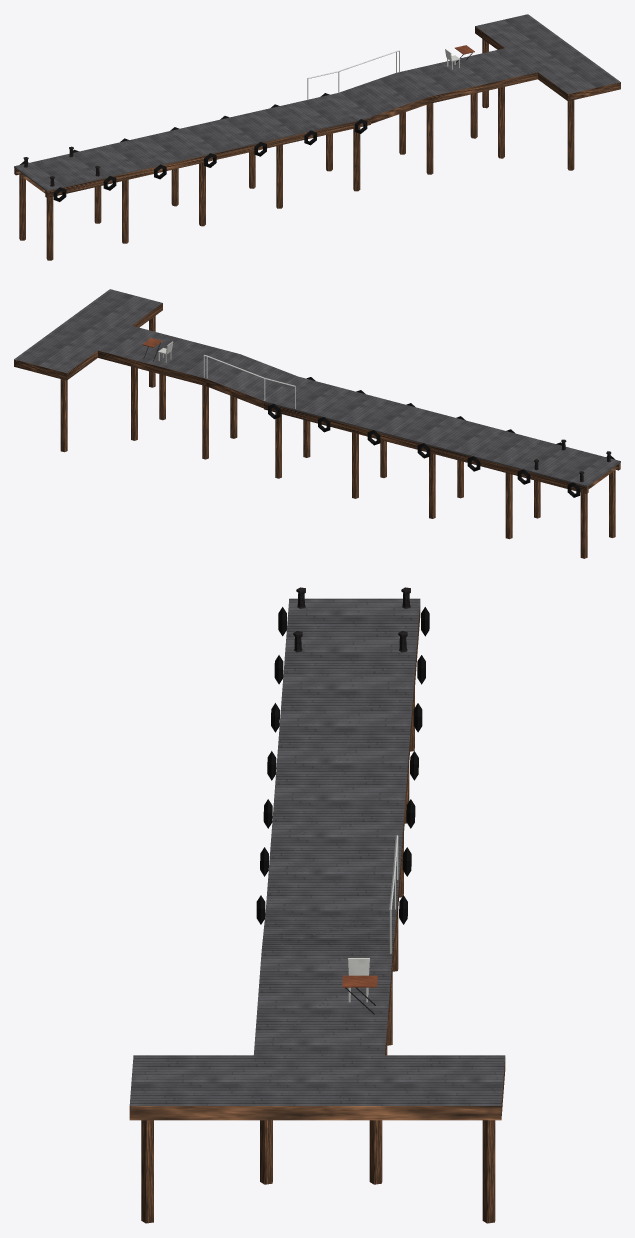
File: SM_Morin_PontileImbarco_v2_LOD2.fbx
3 renders of one model, top to bottom at view 1: azimuth 30°, elevation 25°; view 2: azimuth 150°, elevation 25°; view 3: azimuth 270°, elevation 25°, orthographic. The views are drawn at different scales.
Parts seen in each view (by area): view 1: SM_Morin_PontileImbarco_v2_LOD2; view 2: SM_Morin_PontileImbarco_v2_LOD2; view 3: SM_Morin_PontileImbarco_v2_LOD2.
Part boxes in pixels (box(x1,y1,x2,y2)): SM_Morin_PontileImbarco_v2_LOD2: box(14, 14, 620, 260); SM_Morin_PontileImbarco_v2_LOD2: box(14, 289, 620, 558); SM_Morin_PontileImbarco_v2_LOD2: box(129, 587, 505, 1223).
Size of the model in its own units: 2821 by 859 by 514.
Materials: 2 (2 with a texture image).
